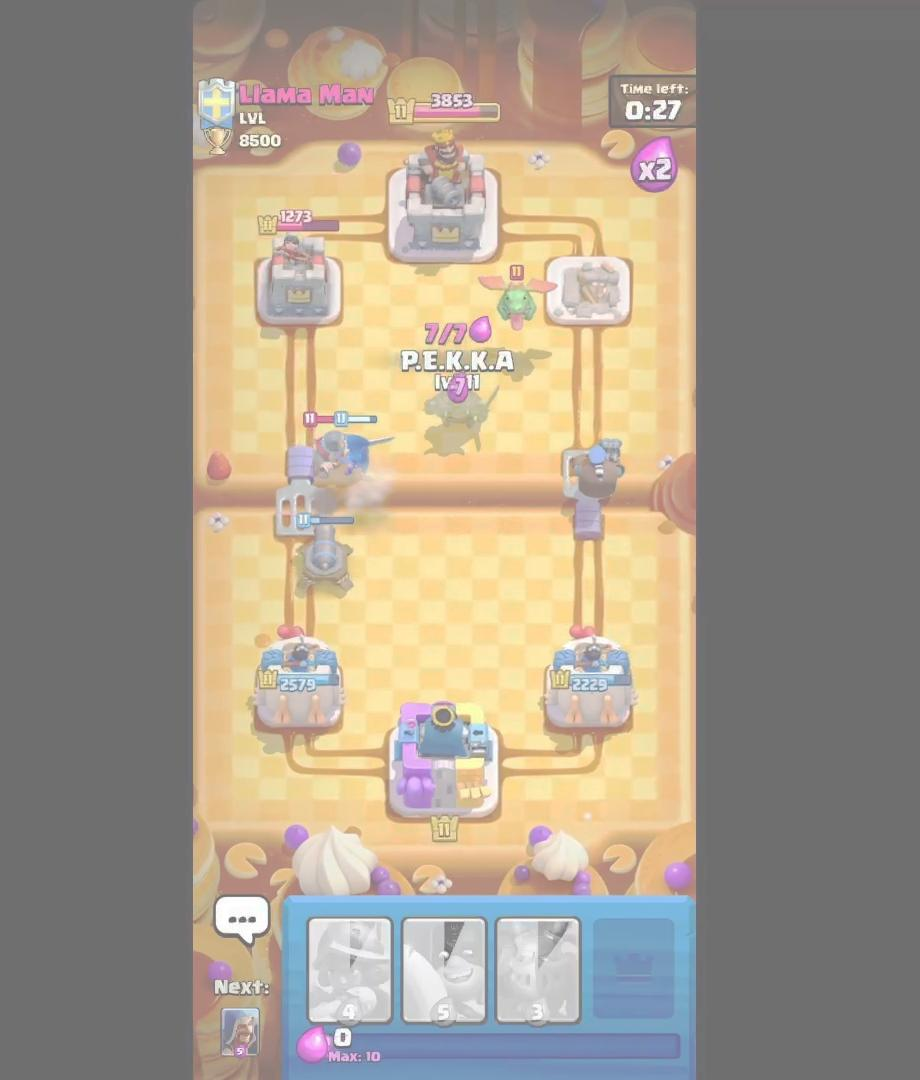Baby Dragon: (477, 262, 562, 334)
Knight: (300, 406, 357, 484)
